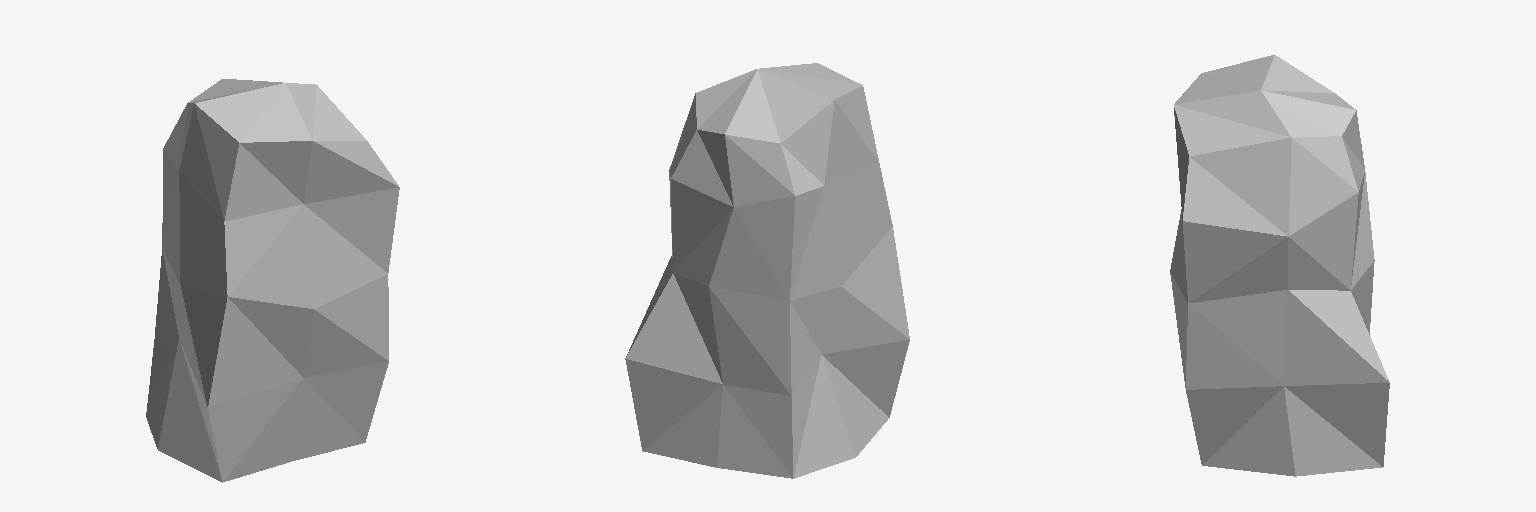
The model's file is Rock.obj.
3 renders of one model, left to right at view 1: azimuth 30°, elevation 25°; view 2: azimuth 150°, elevation 25°; view 3: azimuth 270°, elevation 25°, orthographic.
Parts seen in each view (by area): view 1: Cube.001; view 2: Cube.001; view 3: Cube.001.
Boxes of the visible parts, box(x1,y1,x2,y2) form: Cube.001: box(146, 79, 399, 482); Cube.001: box(625, 63, 909, 478); Cube.001: box(1170, 55, 1389, 476).
Bounding box in the file's own units: 6.9 × 12.15 × 6.9.